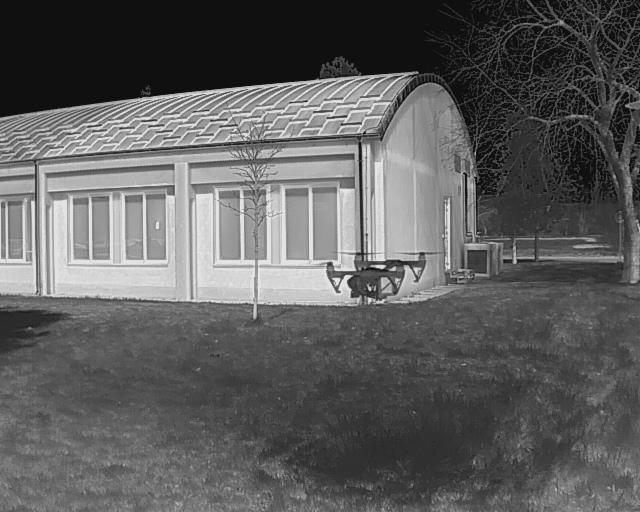drone: (306, 232, 446, 314)
